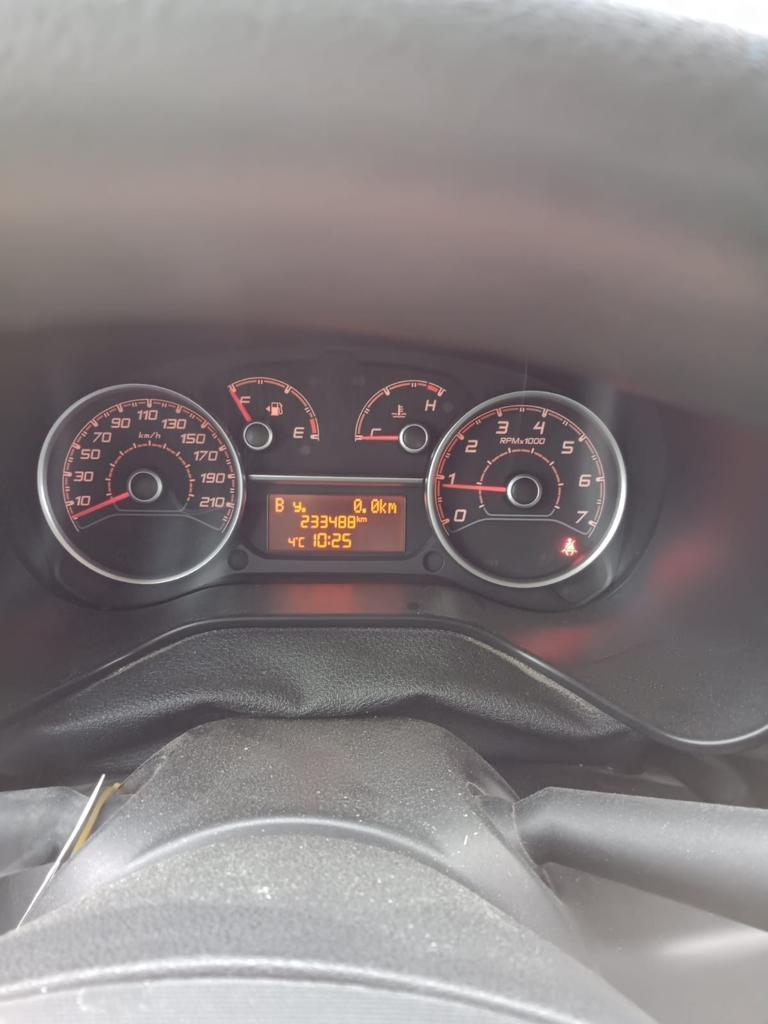,: (301, 507, 306, 512), (362, 507, 366, 513)
0: (317, 532, 327, 548), (370, 498, 379, 514), (353, 498, 361, 513)
1: (312, 532, 316, 548)
2: (331, 532, 341, 548), (300, 514, 309, 528)
3: (319, 514, 327, 528), (310, 514, 318, 528)
4: (328, 515, 337, 528), (287, 535, 295, 548)
5: (341, 532, 351, 548)
8: (337, 515, 346, 528), (346, 515, 355, 528)
X: (274, 497, 284, 512), (387, 502, 397, 514), (292, 500, 301, 513), (379, 498, 386, 514), (298, 536, 304, 548), (327, 535, 330, 545), (361, 517, 367, 522), (356, 515, 360, 522)
odometer: (261, 489, 411, 565)
